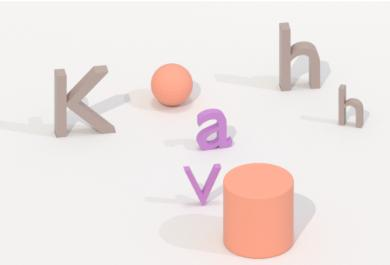0-KhoiTru: (221, 159, 298, 261)
0-Tron: (148, 60, 195, 109)
K: (51, 63, 117, 140)
V: (179, 160, 223, 209)
a: (193, 106, 235, 153)
h: (275, 20, 323, 94), (335, 79, 366, 133)
